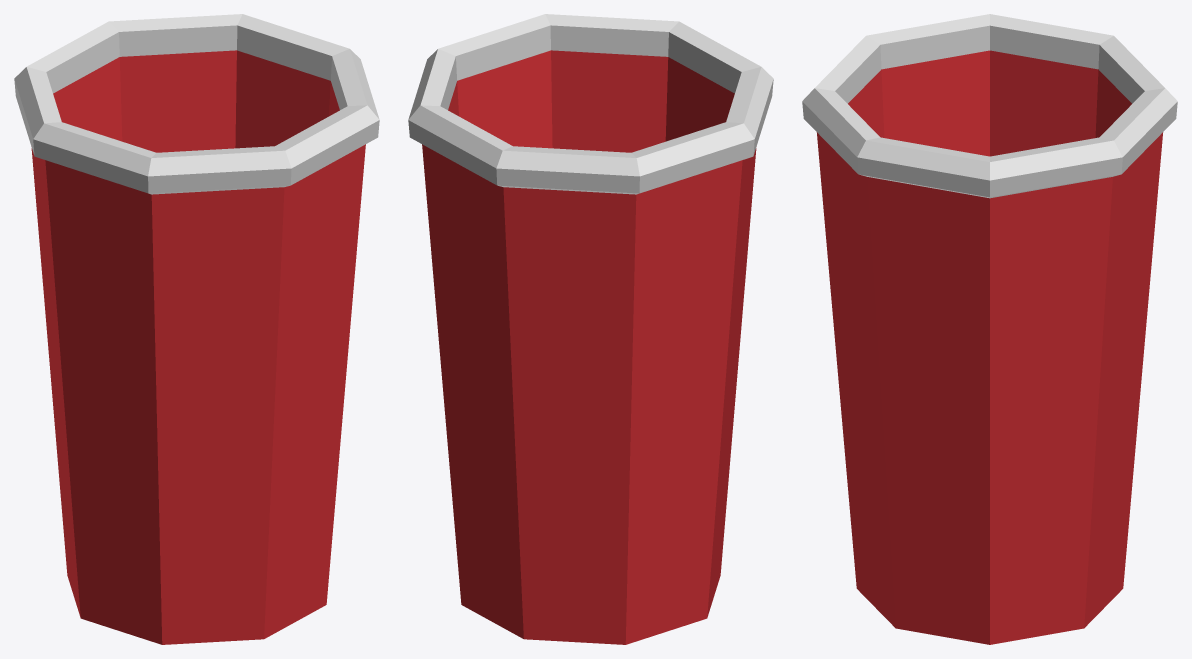
File: BeerMug.fbx
The picture shows the model from 3 angles, left to right: view 1: azimuth 30°, elevation 25°; view 2: azimuth 150°, elevation 25°; view 3: azimuth 270°, elevation 25°; orthographic projection.
Parts seen in each view (by area): view 1: Cylinder; view 2: Cylinder; view 3: Cylinder.
Boxes of the visible parts, bbox=[...] form: Cylinder: bbox=[14, 14, 379, 644]; Cylinder: bbox=[408, 14, 773, 644]; Cylinder: bbox=[802, 14, 1177, 644].
Size of the model in its own units: 46 by 67.64 by 46.
